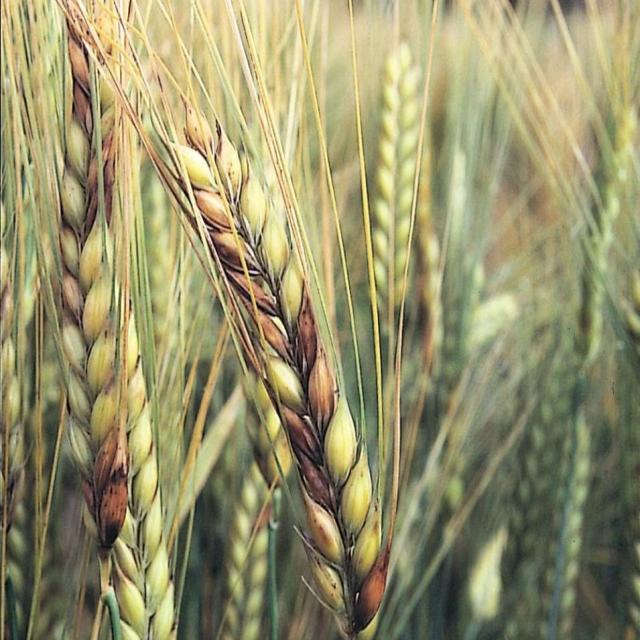Wheathead: (187, 107, 400, 639), (42, 8, 176, 640), (376, 39, 426, 338)
